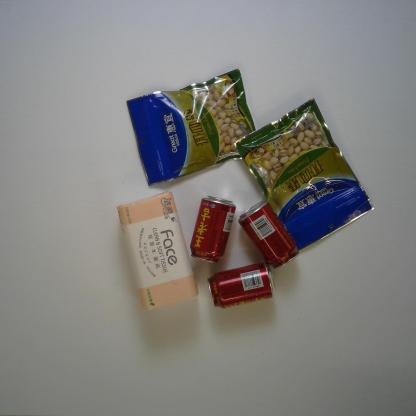Dried Fruit: (232, 96, 375, 252), (125, 66, 256, 188)
Drink: (237, 200, 300, 270), (206, 260, 276, 310), (189, 194, 236, 265)
Tissue: (116, 189, 200, 312)
